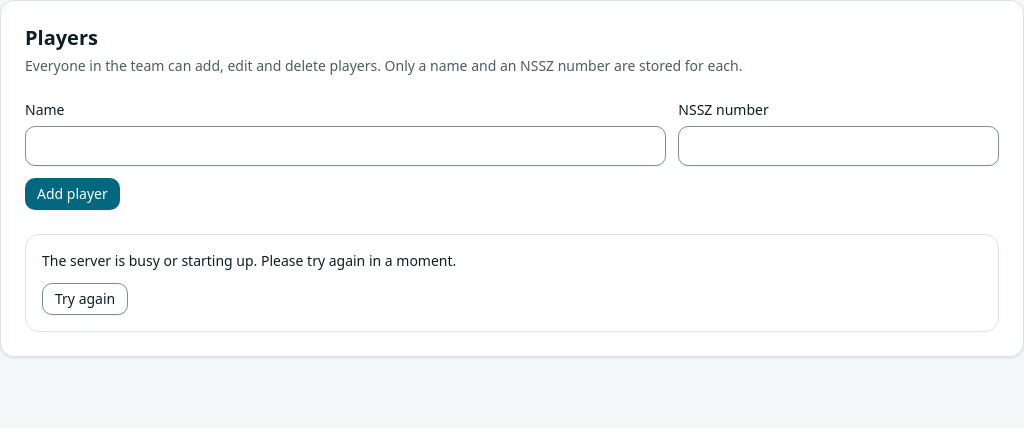
players card › offers a retry when the roster cannot be loaded
This screenshot has width=1024, height=428.
Expected: the text "busy or starting up" is shown, [42,251,456,270]
Click the button "Try again".
click(85, 299)  # box [42,283,128,315]
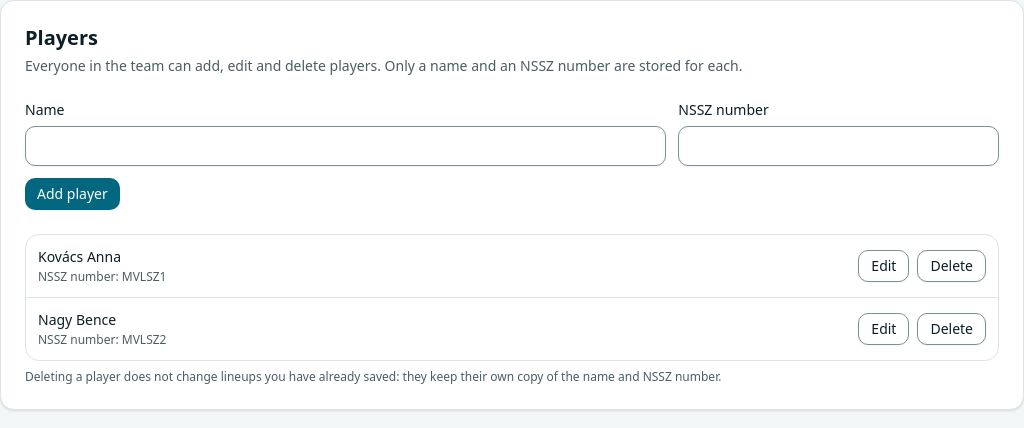
Result: the text "Kovács Anna" is shown at [38,247,121,266]
